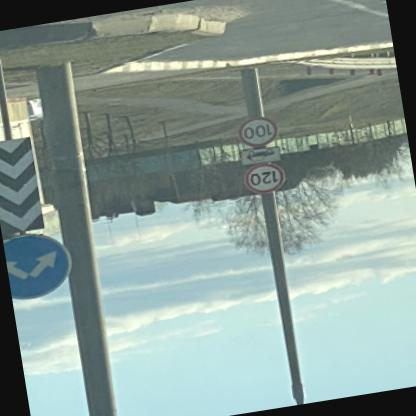speedlimit: (240, 114, 284, 150), (246, 162, 288, 198)
